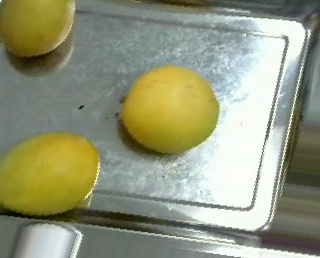Mango: (0, 130, 105, 218), (120, 64, 219, 153), (0, 0, 77, 56)
